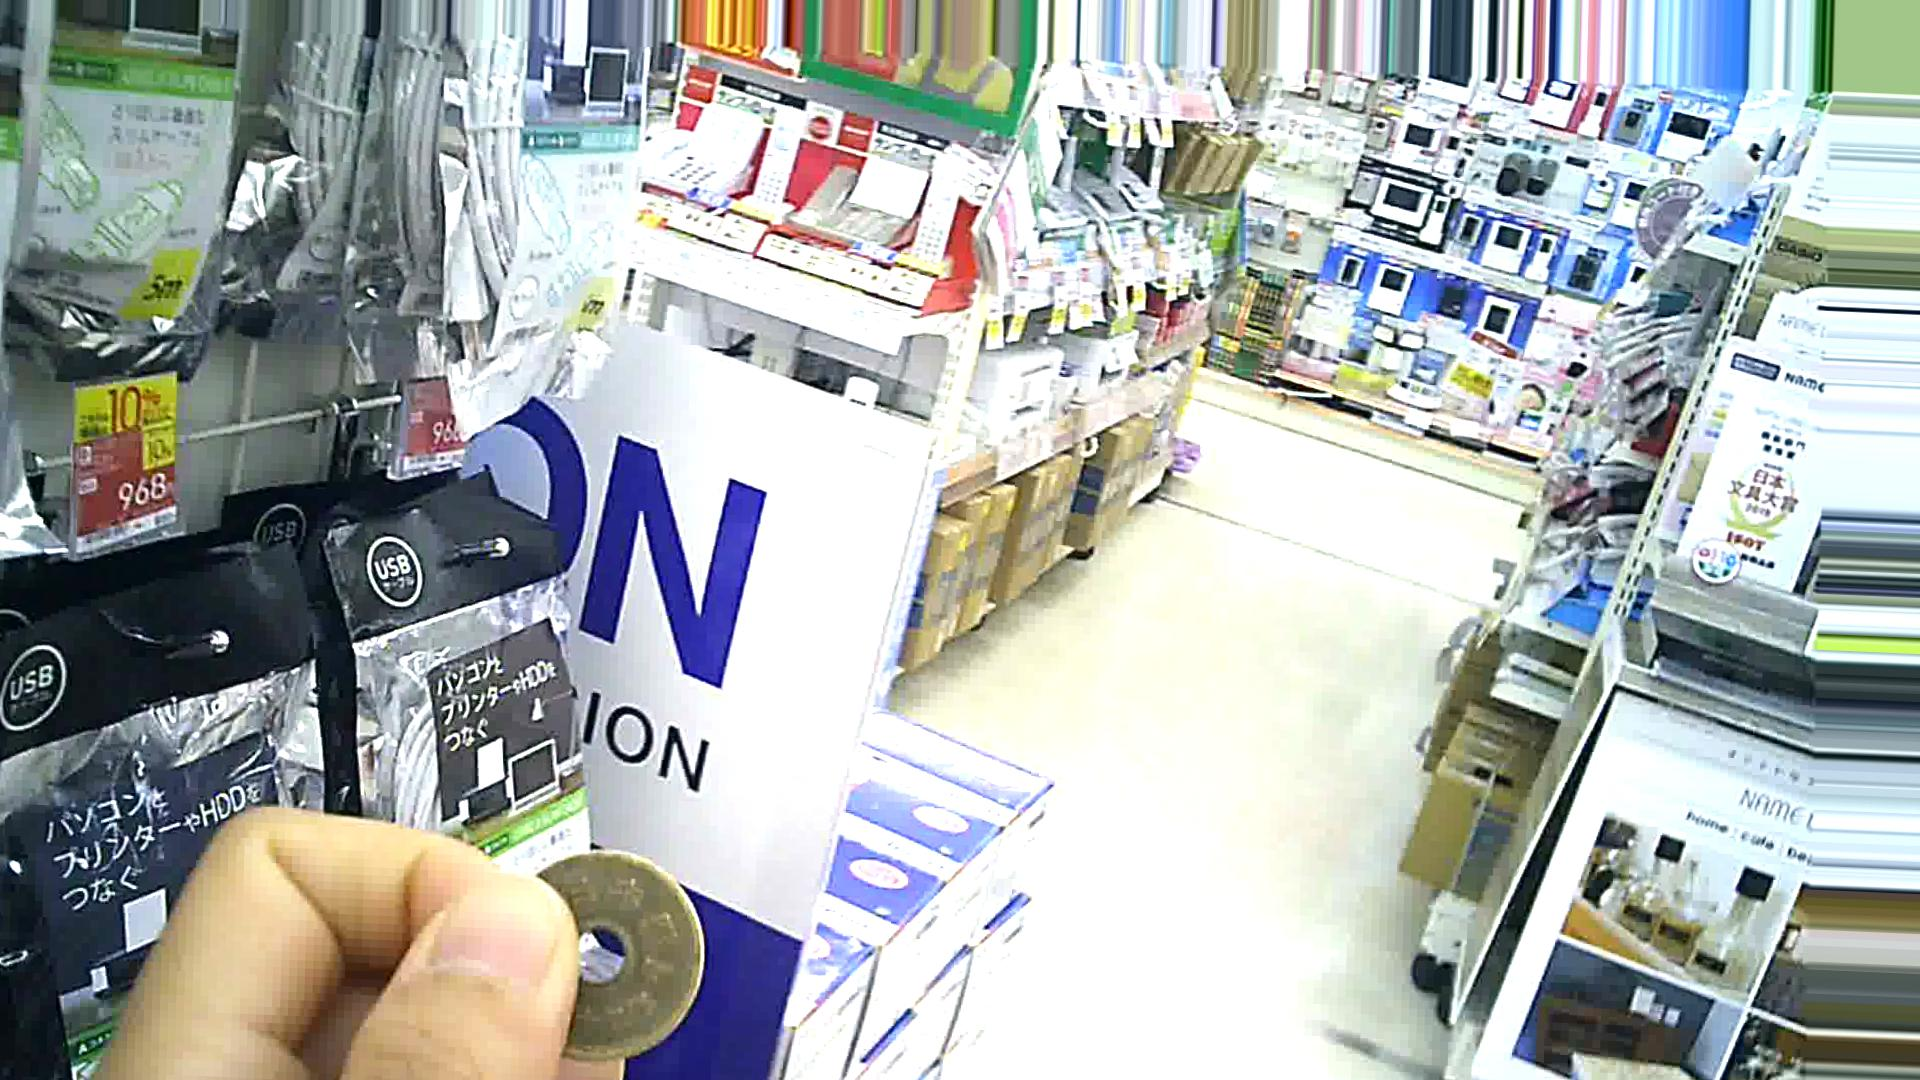5 Yen: (496, 852, 715, 1051)
